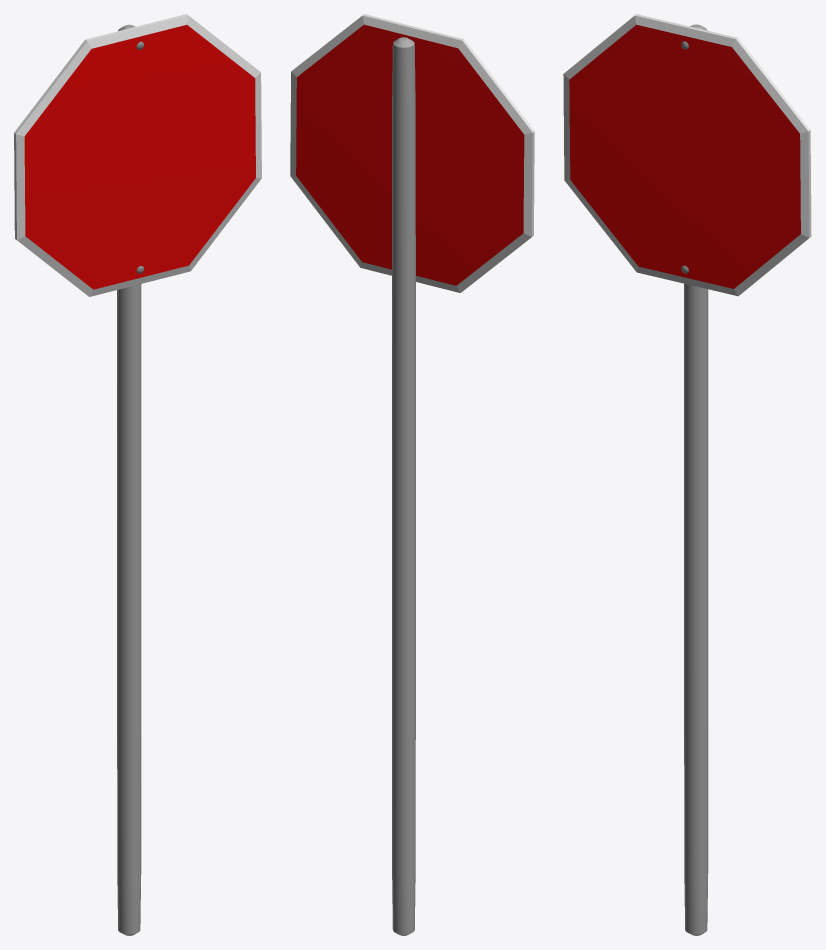
File: Proto_StopSign_01.fbx
3 views of the same model, side by side, from view 1: azimuth 30°, elevation 25°; view 2: azimuth 150°, elevation 25°; view 3: azimuth 330°, elevation 25° (orthographic).
Visible parts, largest first — view 1: Proto_StopSign_01; view 2: Proto_StopSign_01; view 3: Proto_StopSign_01.
Boxes of the visible parts, x1,y1,x2,y2 form: Proto_StopSign_01: (14,14,261,935); Proto_StopSign_01: (290,14,534,935); Proto_StopSign_01: (563,14,811,935).
Bounding box in the file's own units: 4.92 × 17.46 × 0.6472.
